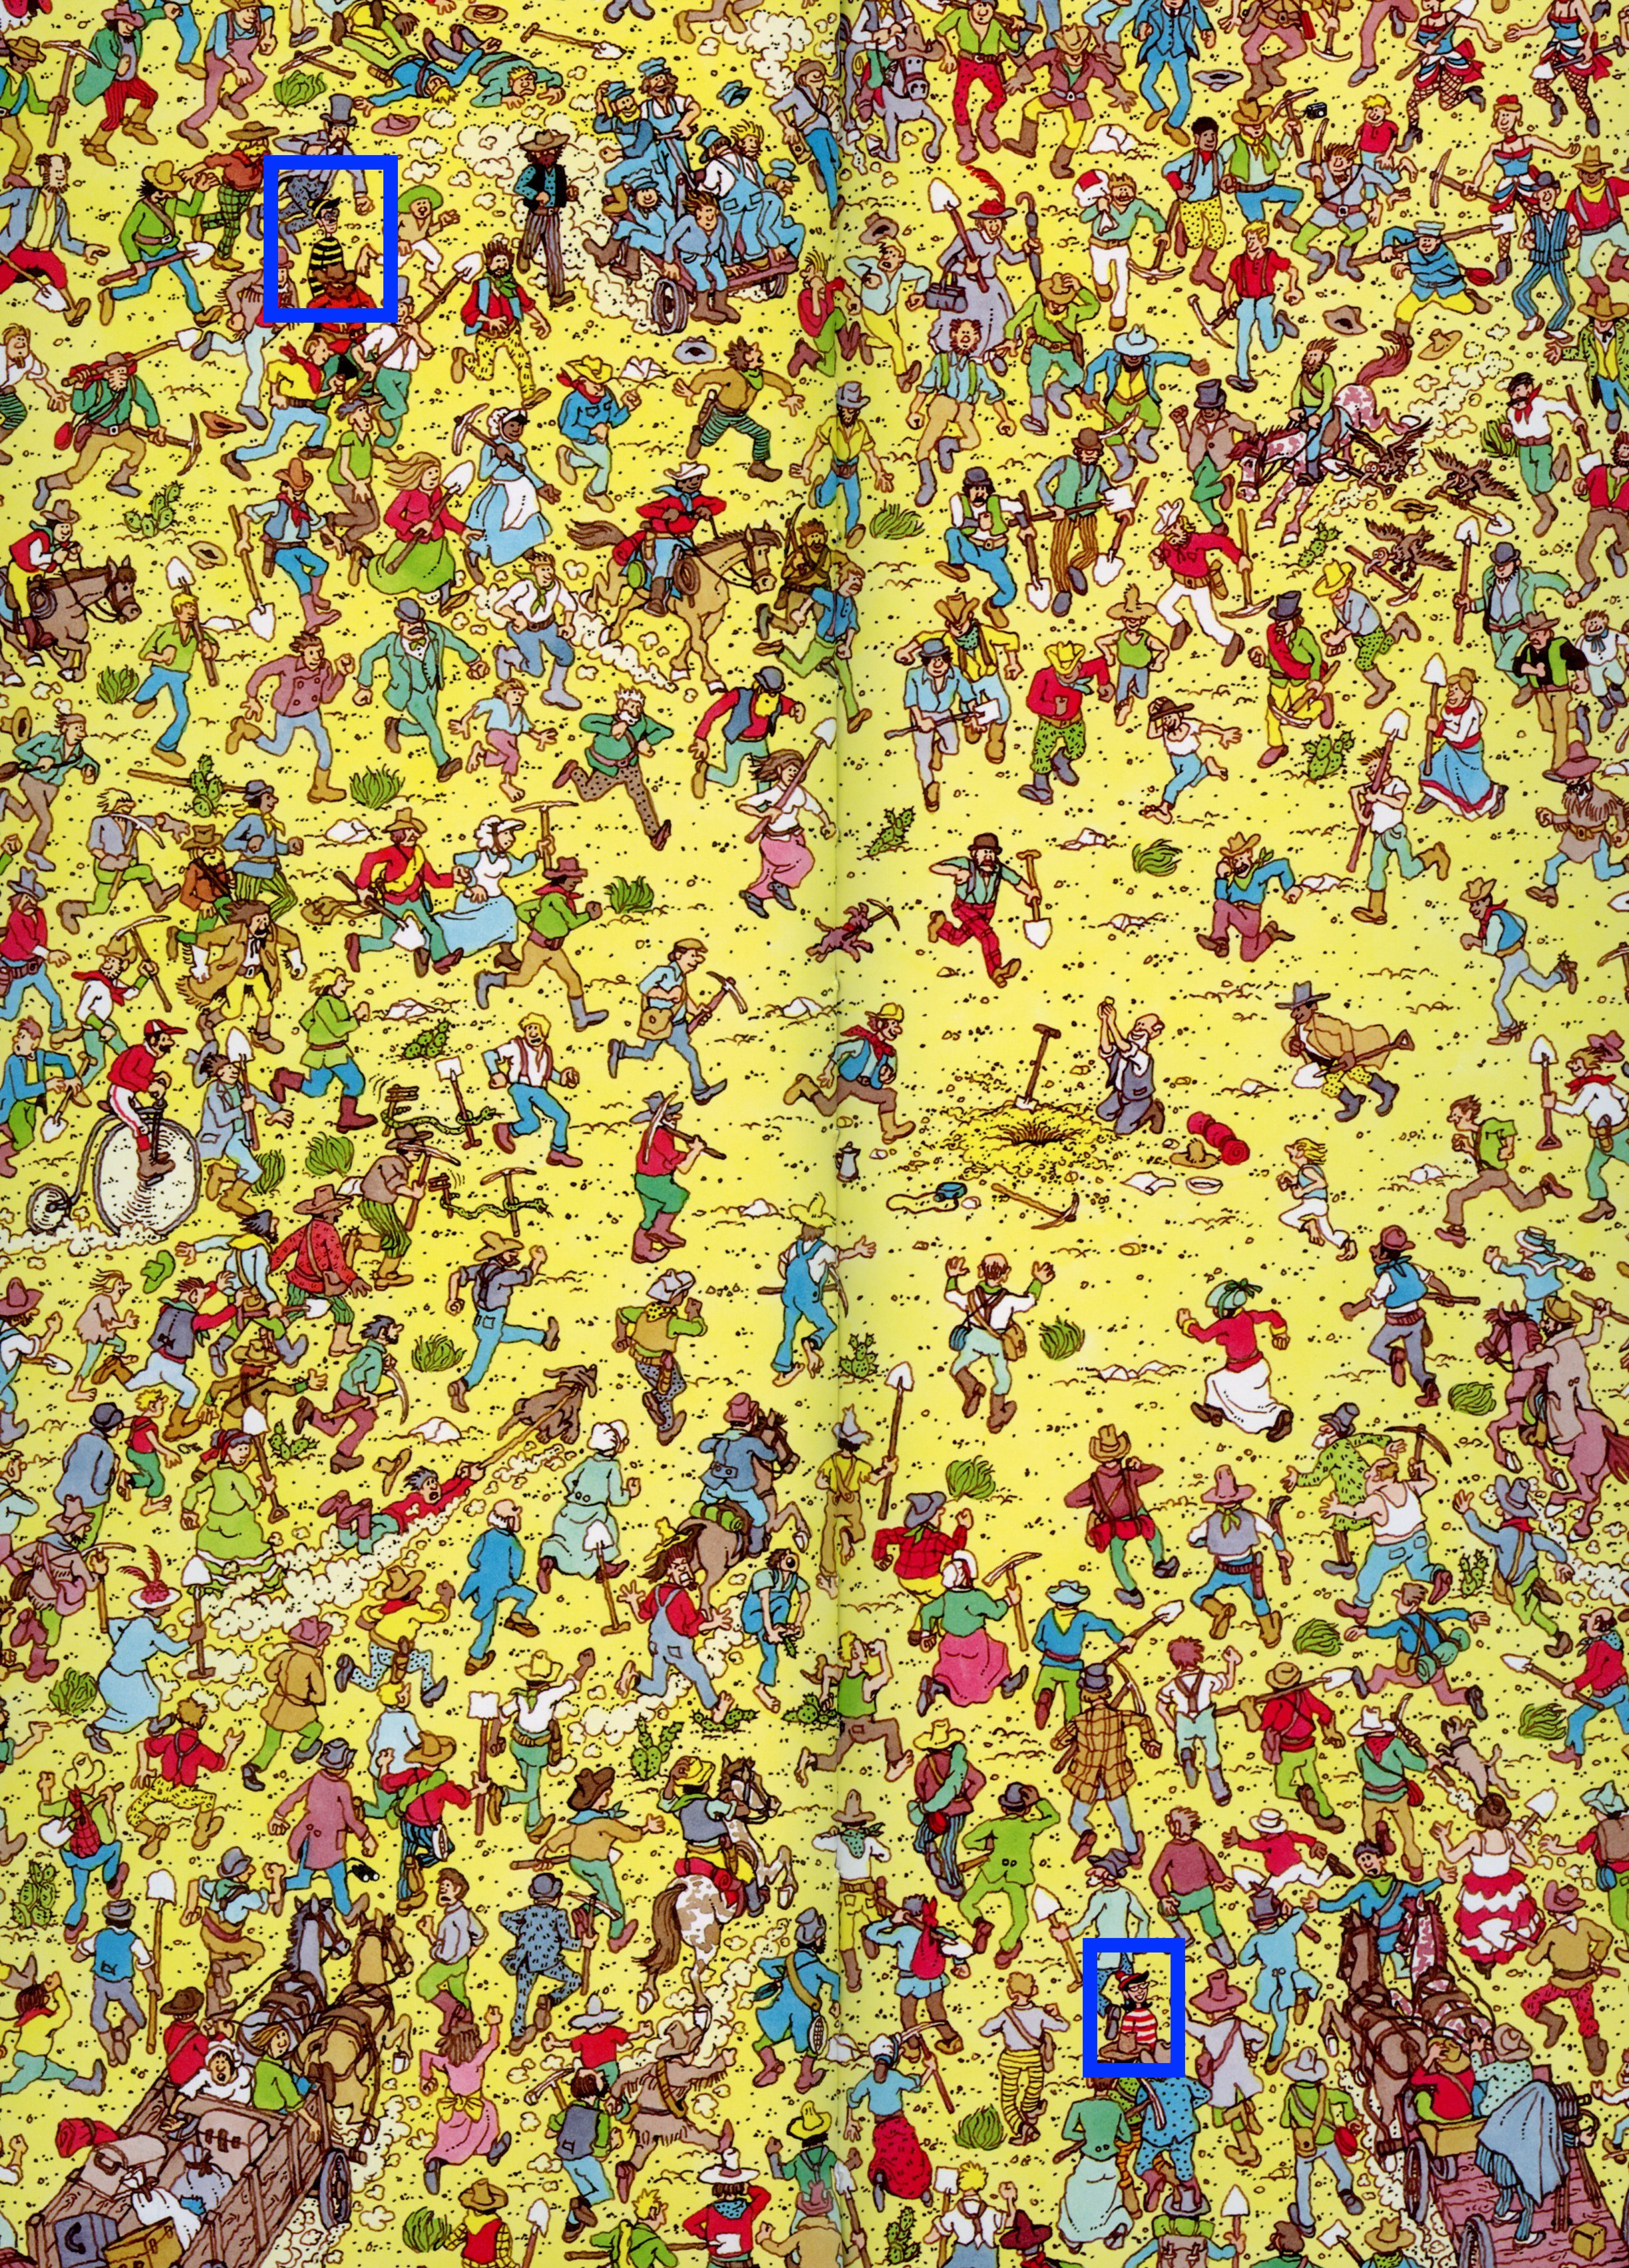odlaw: (264, 144, 419, 352)
